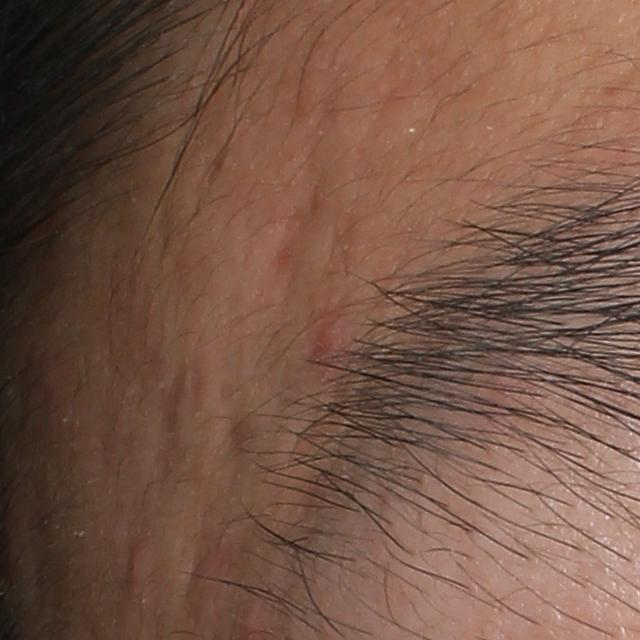atrophic_scar: (248, 156, 335, 305), (207, 377, 253, 483), (153, 369, 189, 490)
papule: (308, 314, 352, 359), (124, 548, 147, 591)
